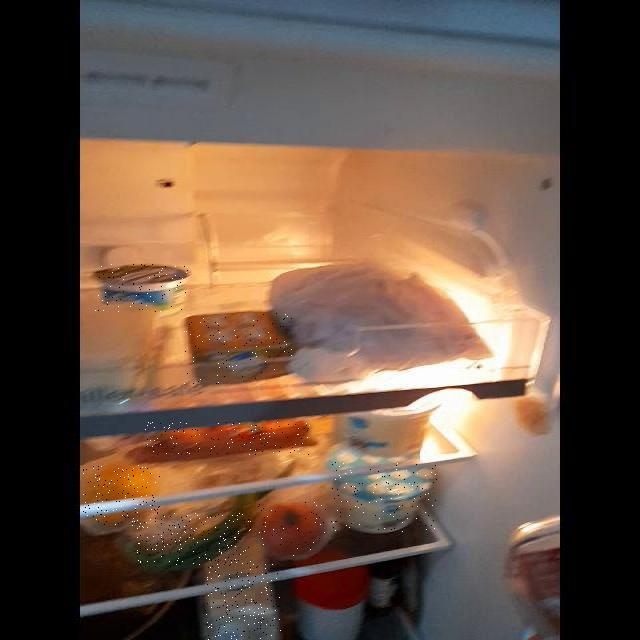butter: (184, 313, 293, 385)
carrot: (145, 422, 312, 455)
green chilies: (137, 513, 252, 565)
lemon: (83, 465, 160, 526)
milk: (206, 563, 282, 640)
tomato: (258, 502, 326, 558)
yoghurt: (331, 462, 437, 532), (332, 414, 437, 458), (95, 264, 188, 312)
